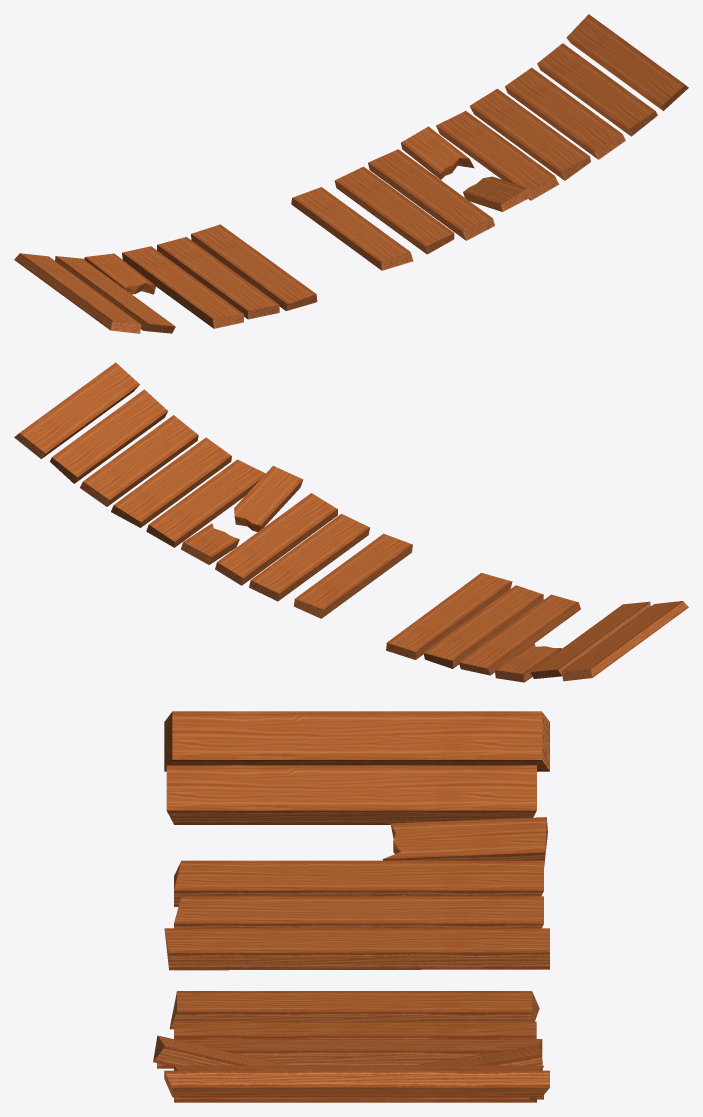
File: bridge_collision.fbx
The picture shows the model from 3 angles, top to bottom: view 1: azimuth 30°, elevation 25°; view 2: azimuth 150°, elevation 25°; view 3: azimuth 270°, elevation 25°; orthographic projection. The views are drawn at different scales.
Parts seen in each view (by area): view 1: Cube.011, Cube.008, Cube.017, Cube.015, Cube.010, Cube.018, Cube.013, Cube.012, Cube.009; view 2: Cube.011, Cube.008, Cube.017, Cube.015, Cube.010, Cube.018, Cube.012, Cube.013, Cube.009; view 3: Cube.010, Cube.008, Cube.011, Cube.018, Cube.009, Cube.015, Cube.017, Cube.012, Cube.013.
Boxes of the visible parts, <box> form: Cube.011: <box>291,149,494,270</box>; Cube.008: <box>122,224,317,328</box>; Cube.017: <box>505,43,657,159</box>; Cube.015: <box>436,88,590,200</box>; Cube.010: <box>14,253,175,333</box>; Cube.018: <box>566,14,688,110</box>; Cube.013: <box>401,126,474,179</box>; Cube.012: <box>463,176,532,211</box>; Cube.009: <box>84,253,155,294</box>; Cube.011: <box>215,493,412,618</box>; Cube.008: <box>386,573,580,675</box>; Cube.017: <box>50,389,198,506</box>; Cube.015: <box>111,437,265,547</box>; Cube.010: <box>530,601,688,681</box>; Cube.018: <box>14,362,139,458</box>; Cube.012: <box>234,466,303,531</box>; Cube.013: <box>181,523,239,564</box>; Cube.009: <box>494,643,561,682</box>; Cube.010: <box>164,711,549,824</box>; Cube.008: <box>164,860,549,970</box>; Cube.011: <box>157,991,542,1068</box>; Cube.018: <box>164,1070,549,1097</box>; Cube.009: <box>382,817,547,867</box>; Cube.015: <box>174,1065,543,1099</box>; Cube.017: <box>173,1097,536,1102</box>; Cube.012: <box>153,1035,287,1066</box>; Cube.013: <box>413,1045,542,1070</box>.
Size of the model in its own units: 13.04 by 2.89 by 3.87.
